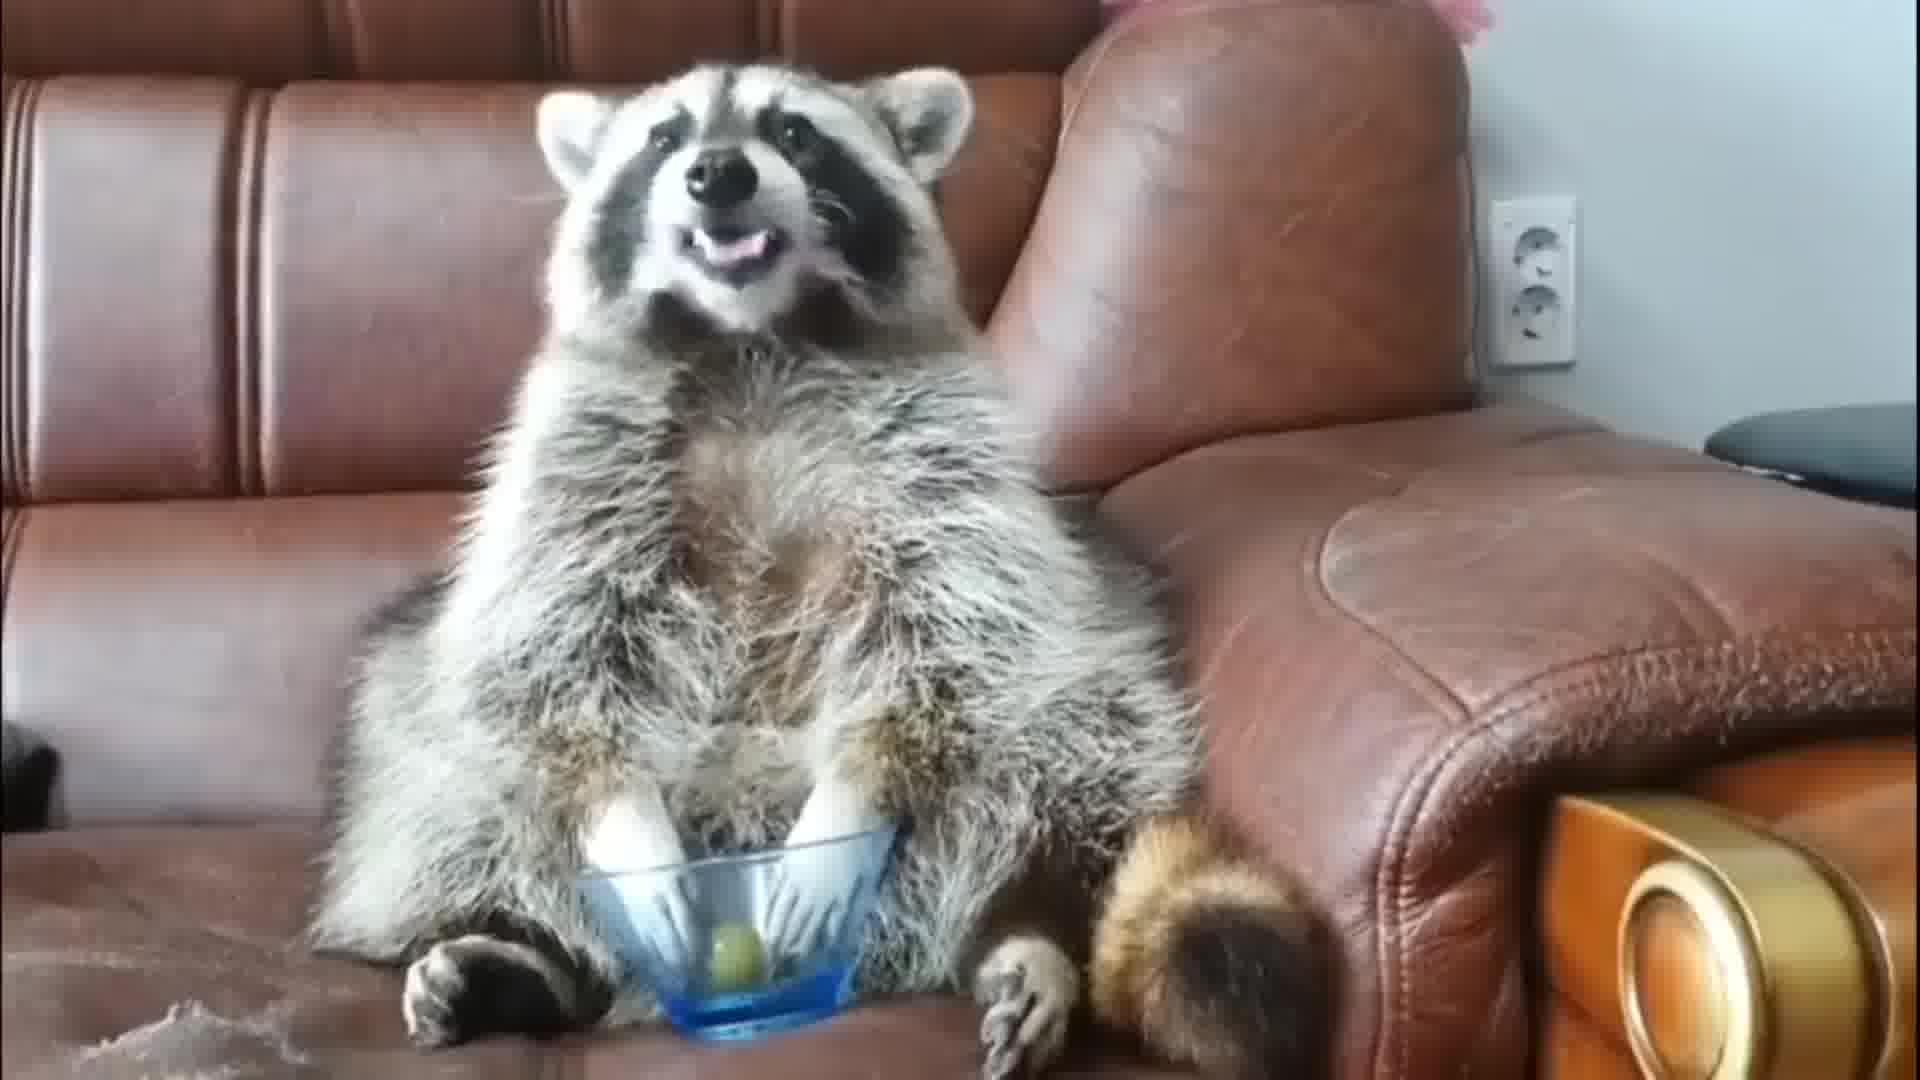raccoon: (318, 57, 1360, 1080)
